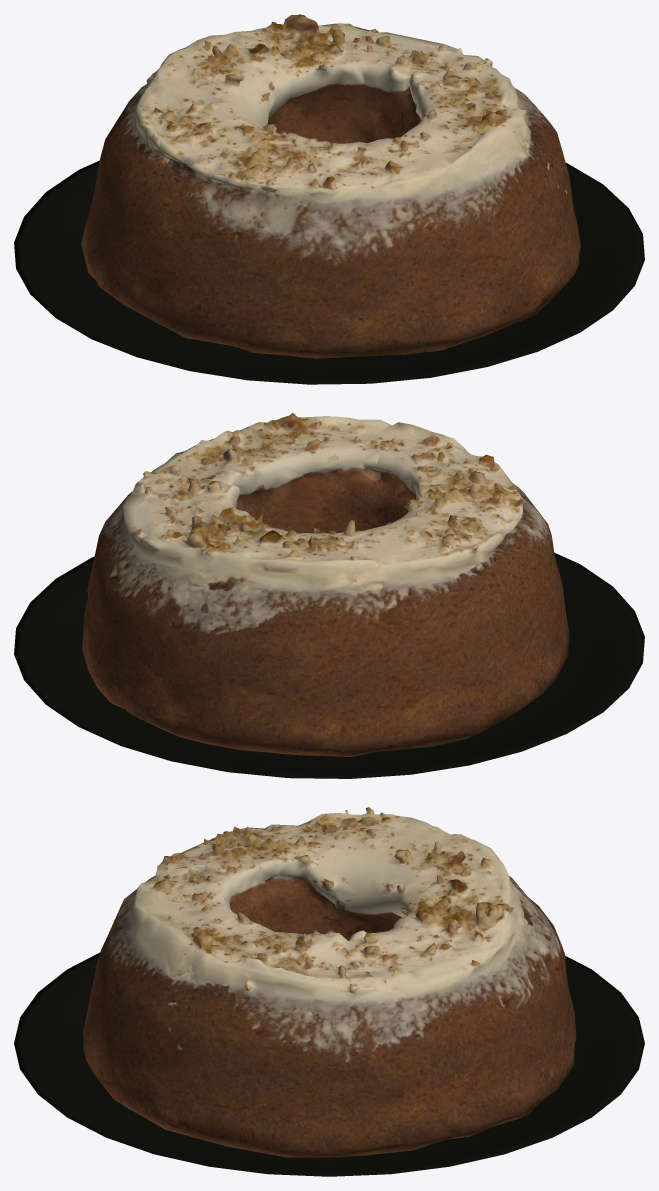
File: carrotcake.glb
3 views of the same model, one above another, from view 1: azimuth 30°, elevation 25°; view 2: azimuth 150°, elevation 25°; view 3: azimuth 270°, elevation 25° (orthographic).
Parts seen in each view (by area): view 1: carrot_cake, Plate; view 2: carrot_cake, Plate; view 3: carrot_cake, Plate.
Part boxes in pixels (<box>): carrot_cake: <box>81,14,580,358</box>; Plate: <box>14,160,644,384</box>; carrot_cake: <box>82,413,569,756</box>; Plate: <box>14,552,644,778</box>; carrot_cake: <box>83,807,576,1157</box>; Plate: <box>14,952,644,1176</box>.
Bounding box in the file's own units: 0.2886 × 0.1017 × 0.2886.
Materials: 2 (1 with a texture image).
